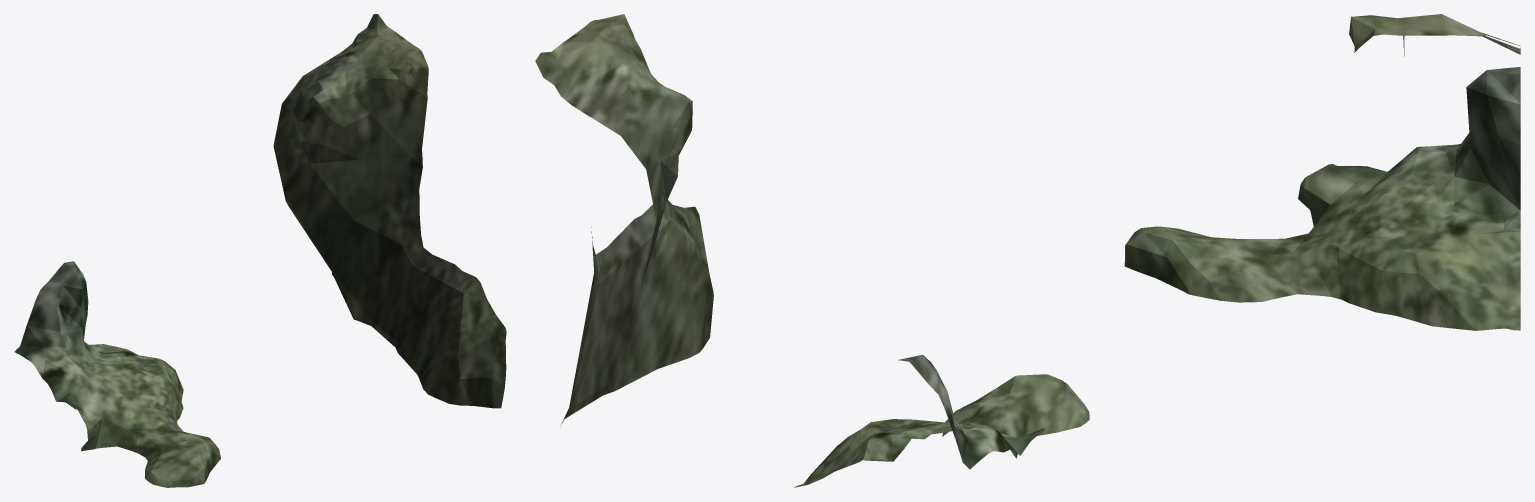
The picture shows the model from 3 angles, left to right: view 1: azimuth 30°, elevation 25°; view 2: azimuth 150°, elevation 25°; view 3: azimuth 270°, elevation 25°; orthographic projection. The views are drawn at different scales.
Bounding box in the file's own units: 2.95 × 2.39 × 1.89.
2 materials, 2 textured.
